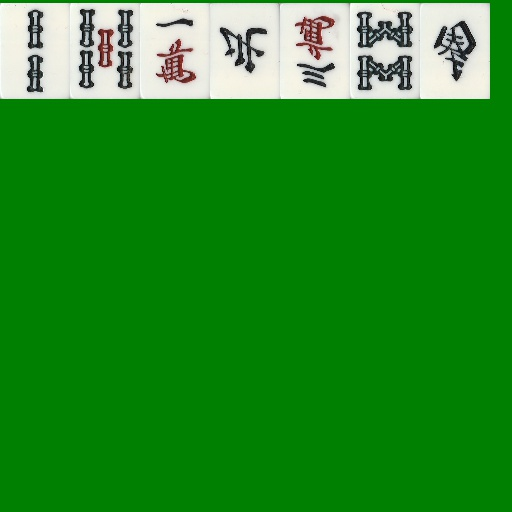1m: (140, 3, 210, 99)
2s: (0, 3, 70, 99)
3m: (280, 3, 350, 99)
5s: (70, 3, 140, 99)
8s: (350, 3, 420, 99)
north: (210, 3, 280, 99)
south: (420, 3, 490, 99)
